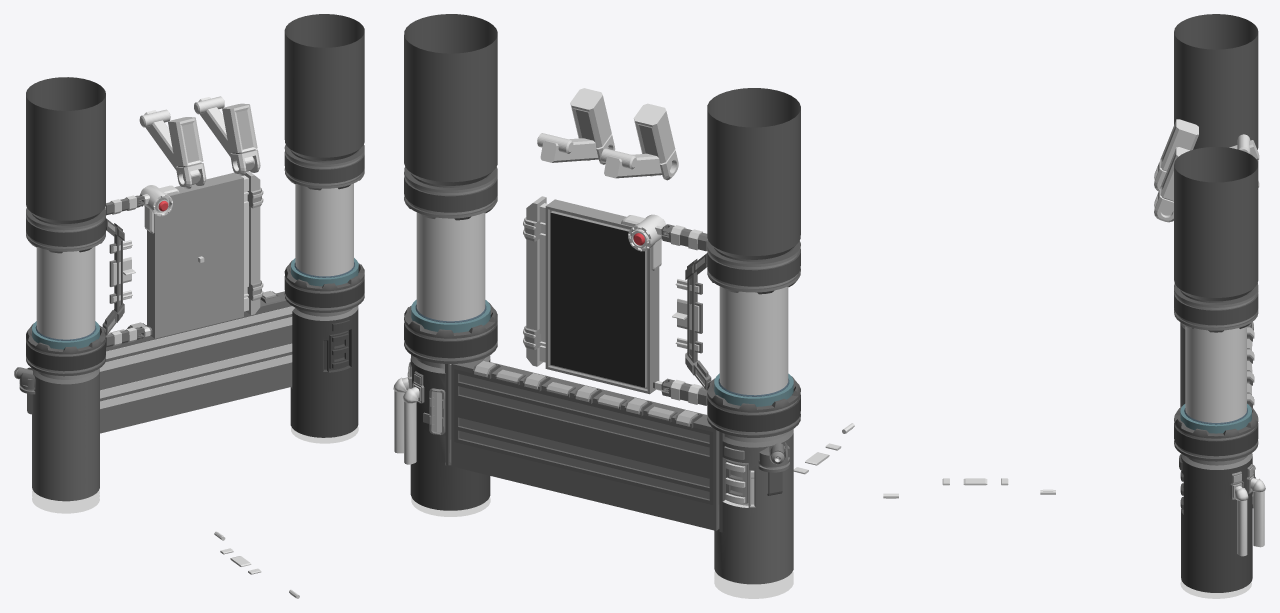
Rendered from CardReplicateMachine.fbx.
3 renders of one model, left to right at view 1: azimuth 30°, elevation 25°; view 2: azimuth 150°, elevation 25°; view 3: azimuth 270°, elevation 25°, orthographic. The views are drawn at different scales.
Parts seen in each view (by area): view 1: Screen.001, TubeTop.001, TubeTop, Cube.002, TubeBotLid.002, TubeBot, TubeBot.001, Cube.004, TubeBotLid.001, TubeBotLid, TubeTopLid.001, TubeTopLid (+10 smaller); view 2: Cube.005, Screen.001, TubeTop.001, TubeTop, TubeBotLid.002, Cube.002, TubeBot, TubeBot.001, TubeBotLid, TubeBotLid.001, TubeTopLid.001, TubeTopLid (+13 smaller); view 3: TubeTop.001, TubeTop, TubeBot.001, TubeBotLid.002, TubeBotLid.001, TubeTopLid.001, Cube.017, Cube.014, Vert, Vert.001, TubeBot.
Boxes of the visible parts, left/top/right/bottom form: Screen.001: left=147, top=172, right=243, bottom=338; TubeTop.001: left=284, top=14, right=364, bottom=162; TubeTop: left=26, top=77, right=105, bottom=225; Cube.002: left=100, top=291, right=292, bottom=433; TubeBotLid.002: left=35, top=183, right=354, bottom=340; TubeBot: left=32, top=368, right=99, bottom=501; TubeBot.001: left=290, top=305, right=358, bottom=437; Cube.004: left=99, top=306, right=294, bottom=408; TubeBotLid.001: left=284, top=258, right=364, bottom=312; TubeBotLid: left=26, top=321, right=105, bottom=376; TubeTopLid.001: left=284, top=144, right=364, bottom=190; TubeTopLid: left=26, top=208, right=105, bottom=253; Cube.005: left=454, top=369, right=713, bottom=504; Screen.001: left=545, top=199, right=659, bottom=394; TubeTop.001: left=404, top=14, right=497, bottom=187; TubeTop: left=707, top=88, right=800, bottom=261; TubeBotLid.002: left=415, top=212, right=789, bottom=396; Cube.002: left=445, top=359, right=725, bottom=532; TubeBot: left=714, top=429, right=793, bottom=584; TubeBot.001: left=407, top=355, right=490, bottom=510; TubeBotLid: left=707, top=373, right=800, bottom=437; TubeBotLid.001: left=404, top=299, right=497, bottom=363; TubeTopLid.001: left=404, top=166, right=497, bottom=220; TubeTopLid: left=707, top=241, right=800, bottom=294; TubeTop.001: left=1174, top=147, right=1258, bottom=303; TubeTop: left=1174, top=14, right=1258, bottom=149; TubeBot.001: left=1179, top=453, right=1255, bottom=592; TubeBotLid.002: left=1184, top=326, right=1247, bottom=424; TubeBotLid.001: left=1174, top=403, right=1258, bottom=461; TubeTopLid.001: left=1174, top=284, right=1258, bottom=332; Cube.017: left=1154, top=122, right=1197, bottom=191; Cube.014: left=1154, top=150, right=1176, bottom=222; Vert: left=1250, top=478, right=1264, bottom=547; Vert.001: left=1235, top=486, right=1247, bottom=556; TubeBot: left=1180, top=322, right=1253, bottom=406.
Size of the model in its own units: 8.38 by 9.77 by 7.9.
